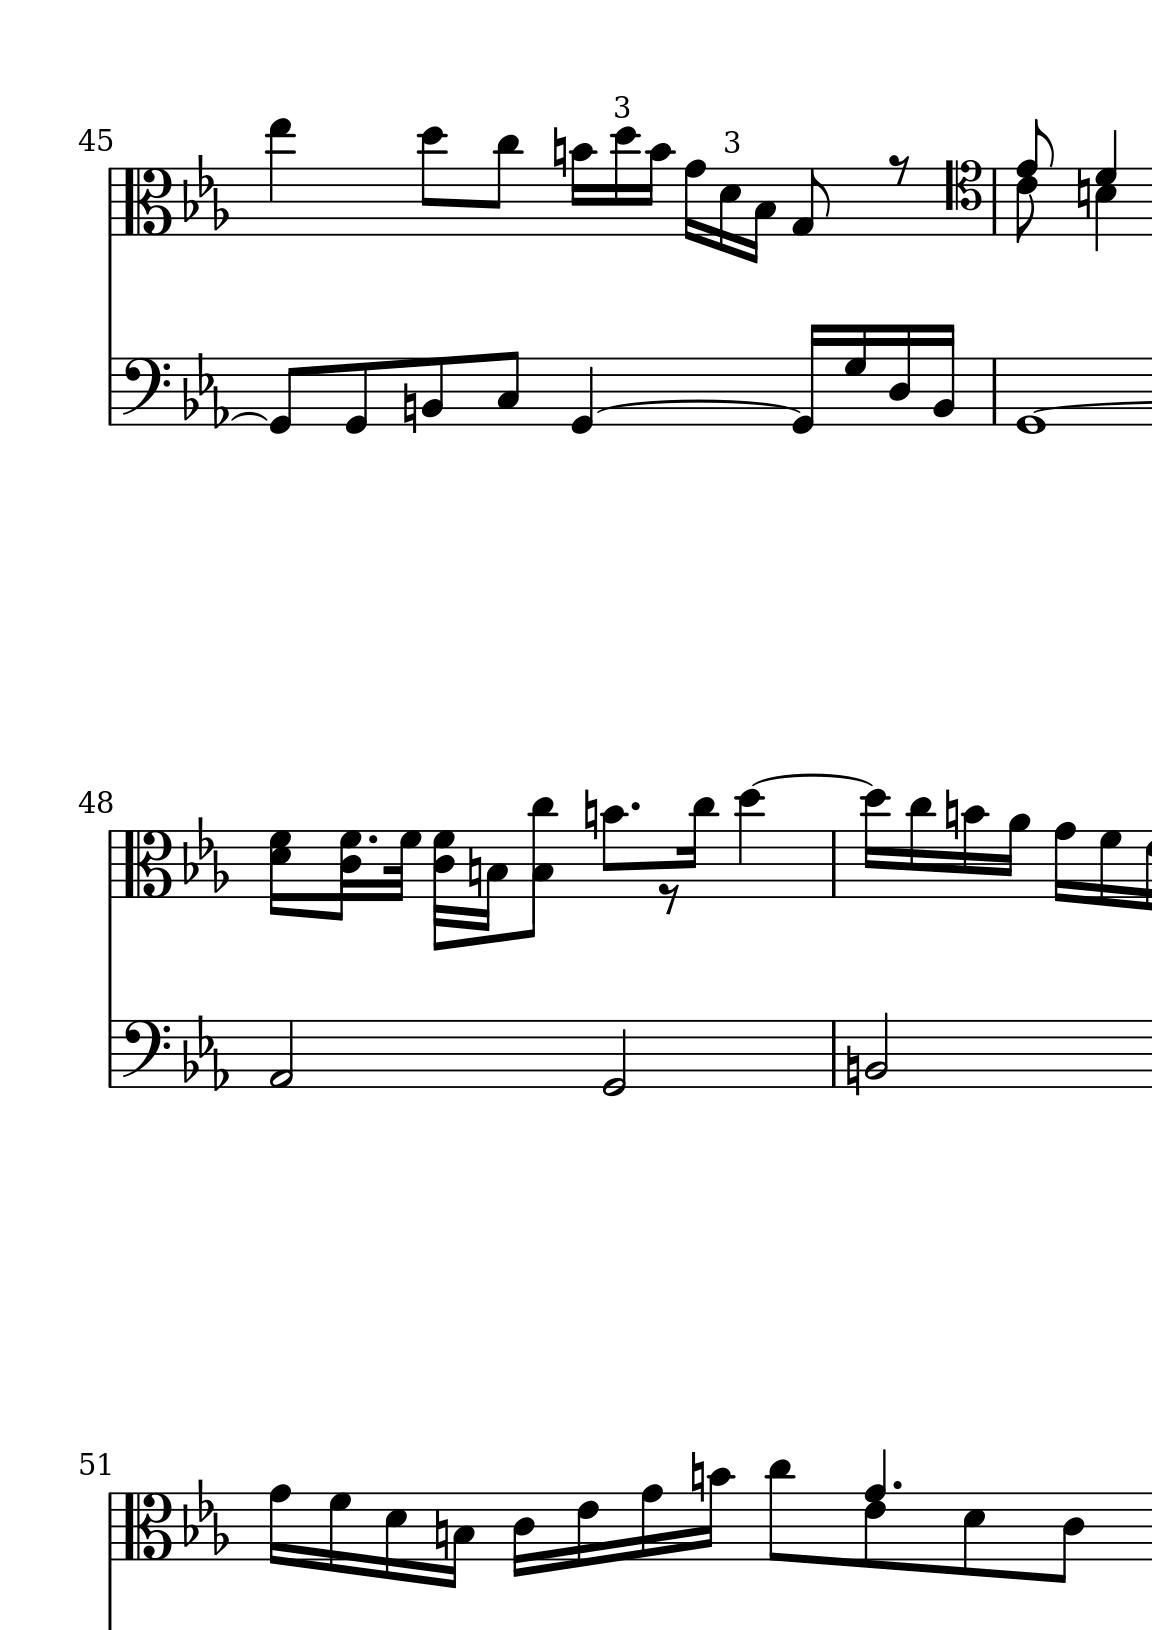1: (96, 1451, 111, 1479)
16_0: (789, 322, 825, 436)
16_10: (641, 142, 674, 238), (698, 1467, 732, 1563), (567, 143, 596, 237), (960, 804, 987, 900)
16_11: (679, 796, 716, 900), (905, 796, 934, 900)
16_12: (610, 125, 640, 238), (860, 788, 889, 898)
16_2: (931, 322, 956, 427)
16_3: (479, 827, 509, 933), (746, 166, 775, 264), (446, 1490, 474, 1590)
16_4: (886, 322, 913, 427), (510, 1490, 534, 1579)
16_5: (382, 1490, 406, 1583), (717, 166, 741, 255)
16_6: (575, 1490, 598, 1570)
16_7: (842, 322, 868, 427), (325, 1490, 352, 1576), (1097, 827, 1121, 910)
16_8: (266, 1482, 290, 1568), (1051, 820, 1076, 905), (682, 160, 706, 245), (640, 1482, 663, 1564)
16_9: (1000, 813, 1030, 900)
1_0: (1014, 355, 1046, 436)
2_0: (601, 1018, 628, 1098)
2_1: (268, 1018, 294, 1089)
2_2: (863, 1011, 890, 1085)
3: (722, 130, 741, 156), (612, 93, 630, 120)
32_7: (384, 829, 421, 903)
4: (76, 789, 95, 816), (77, 127, 95, 155)
4_0: (569, 356, 595, 435)
4_12: (734, 789, 764, 902)
4_13: (266, 116, 293, 238)
4_5_7: (1093, 130, 1120, 250)
5: (77, 1451, 96, 1478), (96, 126, 113, 153)
8: (96, 789, 113, 816)
8_0: (267, 356, 300, 435), (342, 355, 369, 436)
8_1: (790, 167, 832, 237)
8_10: (598, 804, 623, 900)
8_11: (486, 133, 520, 237), (766, 1458, 794, 1565)
8_12: (416, 123, 446, 237)
8_2: (419, 355, 445, 429)
8_3: (494, 349, 520, 427)
8_4: (1051, 1490, 1085, 1586)
8_5: (960, 1490, 986, 1579)
8_6_8: (1015, 117, 1056, 245)
Cclef: (121, 166, 173, 237), (121, 1490, 172, 1561), (121, 829, 172, 898)
E_F: (180, 1477, 228, 1559), (181, 153, 228, 232), (182, 815, 228, 894), (182, 351, 228, 429), (182, 1014, 228, 1092)
Fclef: (120, 355, 171, 427), (120, 1018, 170, 1089)
Natural: (431, 1504, 450, 1561), (1073, 168, 1092, 223), (581, 788, 598, 842), (400, 383, 418, 435), (550, 125, 566, 179), (943, 788, 959, 841), (844, 1043, 860, 1097), (688, 1451, 704, 1503), (466, 847, 482, 898)
Rests8: (886, 152, 911, 187), (657, 881, 679, 915)
Single_barline: (101, 830, 118, 898), (985, 359, 1002, 425), (101, 168, 117, 236), (986, 168, 1002, 236), (102, 1021, 118, 1088), (101, 1493, 117, 1560), (102, 359, 118, 425), (825, 831, 842, 897), (827, 1021, 842, 1087)
Slur: (593, 398, 810, 414), (751, 771, 876, 789), (228, 410, 267, 422)
Tensor_Cclef: (943, 157, 982, 236)
dot: (365, 832, 380, 846), (890, 1478, 904, 1493), (628, 800, 642, 814)
